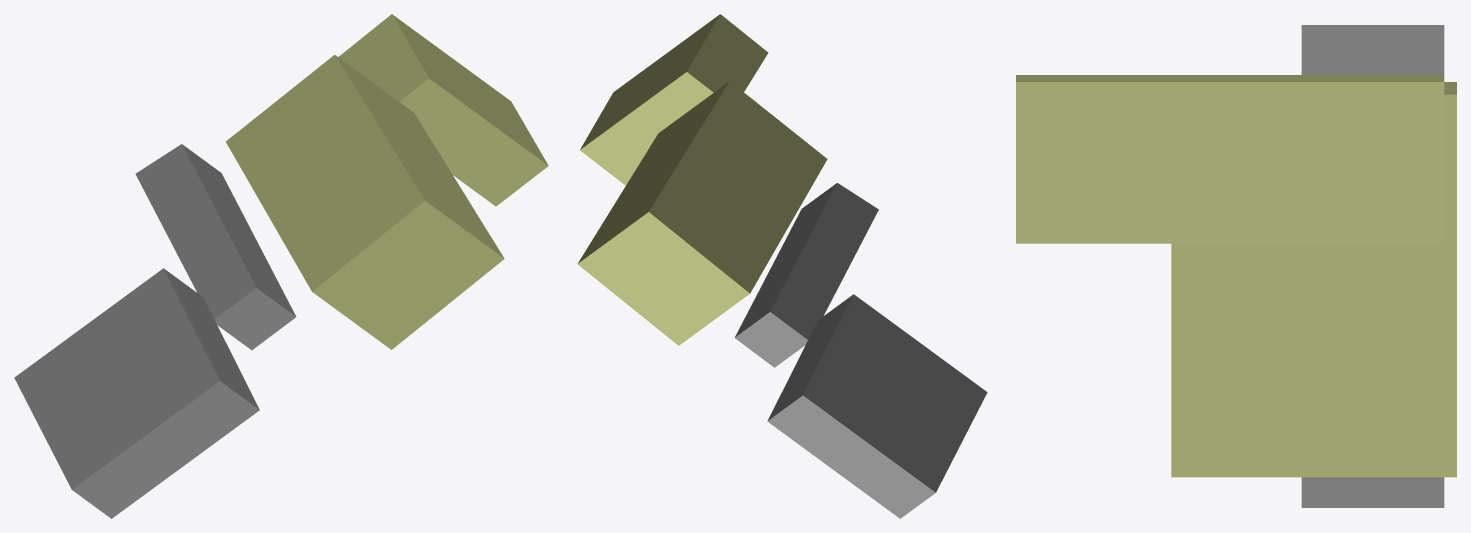
3 views of the same model, side by side, from view 1: azimuth 30°, elevation 25°; view 2: azimuth 150°, elevation 25°; view 3: azimuth 270°, elevation 25° (orthographic). The views are drawn at different scales.
Visible parts, largest first — view 1: 0_1_1_3_2_2_3_3_0_3; view 2: 0_1_1_3_2_2_3_3_0_3; view 3: 0_1_1_3_2_2_3_3_0_3.
Boxes of the visible parts, left/top/right/bottom form: 0_1_1_3_2_2_3_3_0_3: left=14, top=14, right=548, bottom=518; 0_1_1_3_2_2_3_3_0_3: left=577, top=14, right=987, bottom=518; 0_1_1_3_2_2_3_3_0_3: left=1016, top=25, right=1456, bottom=507.
Bounding box in the file's own units: 18.06 × 16.54 × 9.26.
